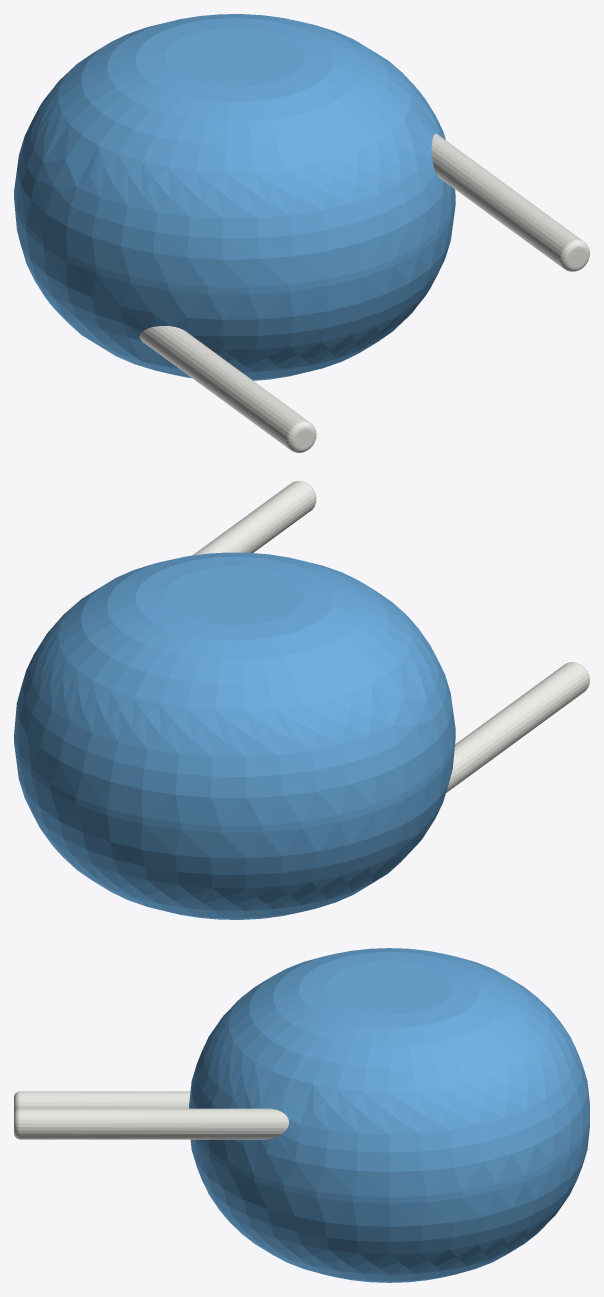
File: RV_Disc_D7mm_W4.9mm_P5mm.glb
3 views of the same model, one above another, from view 1: azimuth 30°, elevation 25°; view 2: azimuth 150°, elevation 25°; view 3: azimuth 270°, elevation 25° (orthographic). The views are drawn at different scales.
Visible parts, largest first — view 1: Shape_IndexedFaceSet.001, Shape_IndexedFaceSet.002, Shape_IndexedFaceSet.003, Shape_IndexedFaceSet.006, Shape_IndexedFaceSet.004, Shape_IndexedFaceSet; view 2: Shape_IndexedFaceSet.001, Shape_IndexedFaceSet.002, Shape_IndexedFaceSet.003, Shape_IndexedFaceSet.006, Shape_IndexedFaceSet.004, Shape_IndexedFaceSet; view 3: Shape_IndexedFaceSet.001, Shape_IndexedFaceSet.002, Shape_IndexedFaceSet.004, Shape_IndexedFaceSet.003, Shape_IndexedFaceSet.006, Shape_IndexedFaceSet.
Boxes of the visible parts, x1,y1,x2,y2 form: Shape_IndexedFaceSet.001: (14, 14, 455, 287); Shape_IndexedFaceSet.002: (14, 199, 455, 380); Shape_IndexedFaceSet.003: (165, 28, 304, 86); Shape_IndexedFaceSet.006: (139, 326, 308, 448); Shape_IndexedFaceSet.004: (431, 133, 583, 267); Shape_IndexedFaceSet: (14, 193, 455, 294); Shape_IndexedFaceSet.001: (14, 552, 455, 825); Shape_IndexedFaceSet.002: (14, 739, 455, 919); Shape_IndexedFaceSet.003: (165, 566, 304, 625); Shape_IndexedFaceSet.006: (446, 662, 588, 792); Shape_IndexedFaceSet.004: (192, 481, 315, 555); Shape_IndexedFaceSet: (14, 732, 455, 832); Shape_IndexedFaceSet.001: (189, 948, 589, 1197); Shape_IndexedFaceSet.002: (190, 1127, 589, 1282); Shape_IndexedFaceSet.004: (20, 1108, 288, 1139); Shape_IndexedFaceSet.003: (326, 960, 452, 1014); Shape_IndexedFaceSet.006: (20, 1091, 190, 1108); Shape_IndexedFaceSet: (195, 1121, 589, 1203).
Size of the model in its own units: 2.76 by 1.93 by 3.94.
